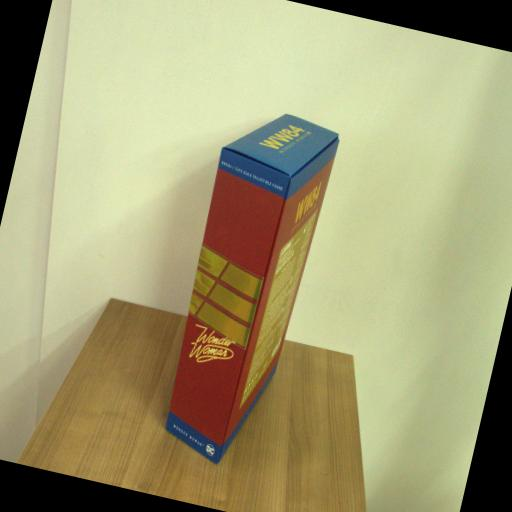WonderWoman: (150, 100, 344, 477)
